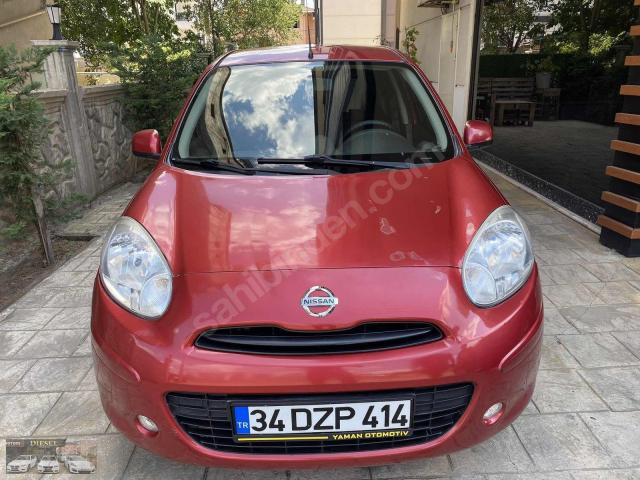plaka: (233, 396, 414, 436)
